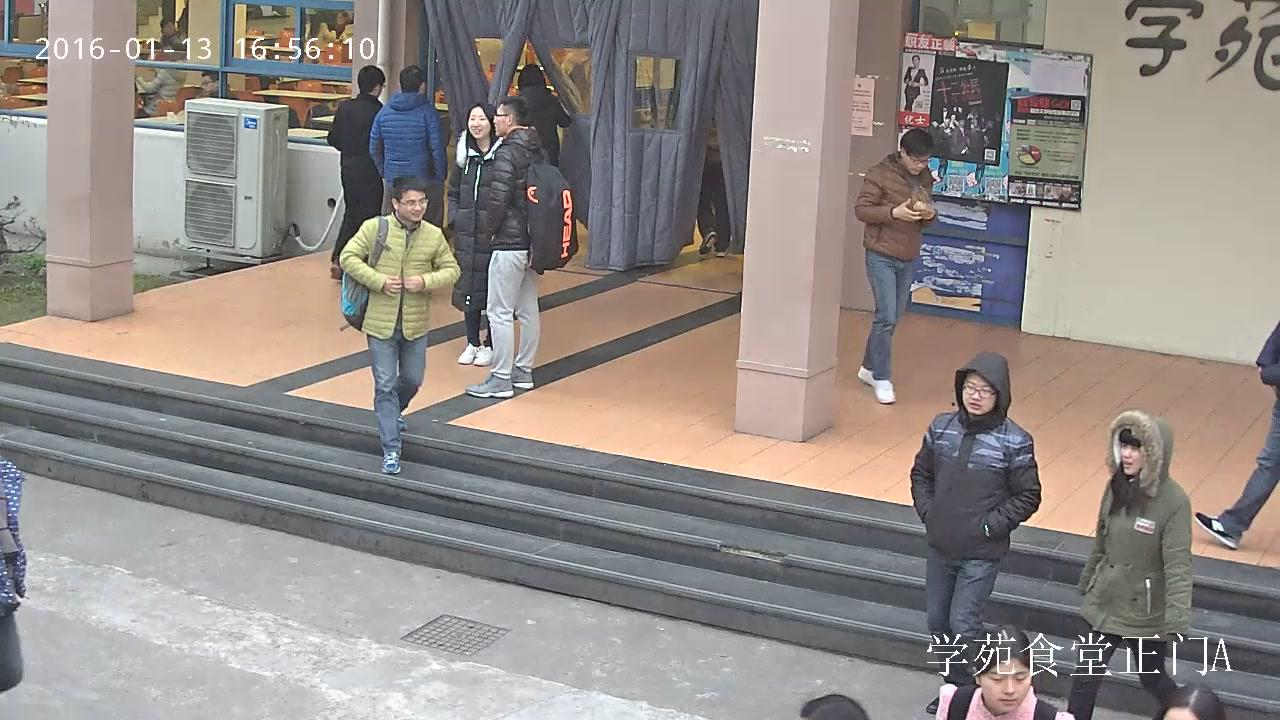person: (909, 350, 1041, 715), (1066, 409, 1191, 719), (338, 174, 462, 475), (463, 95, 577, 397), (855, 128, 936, 404), (1192, 317, 1280, 550), (442, 102, 505, 365), (935, 623, 1076, 720), (369, 63, 448, 225), (326, 64, 385, 279), (0, 454, 30, 696), (504, 62, 568, 169), (694, 122, 731, 257), (136, 48, 178, 119), (173, 70, 219, 121), (303, 82, 351, 128), (140, 16, 185, 64), (903, 54, 928, 111)
